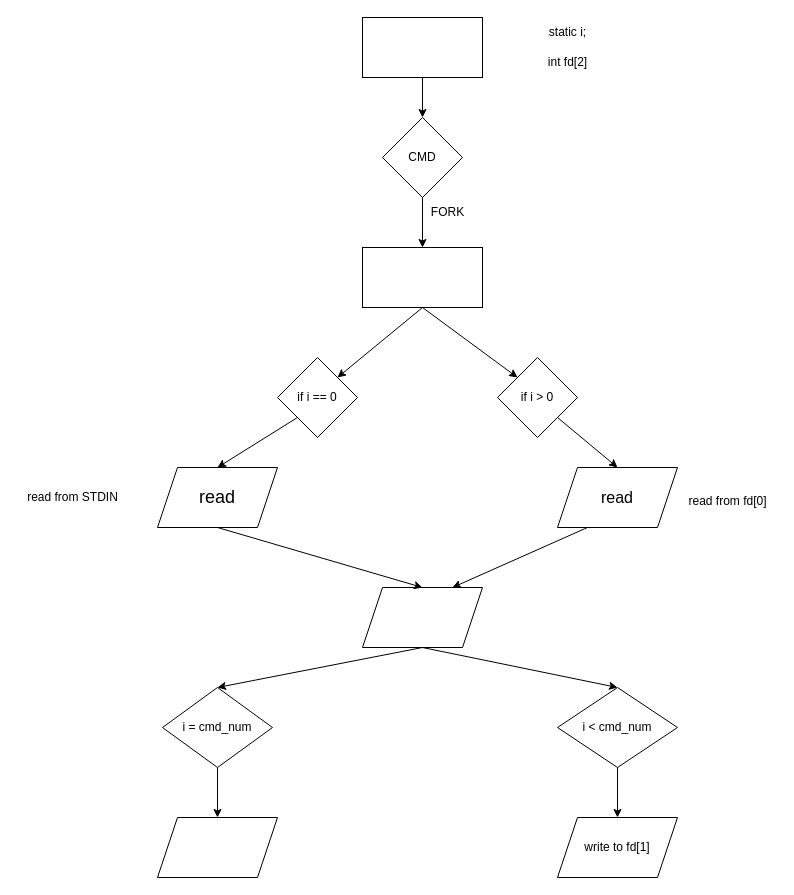
Image size: 794x895. Some labels were removed from this diagram. The centre of each missing label's shape, as x and y in pixels:
"CHILD" goes at [422,277].
"execve" goes at [422,617].
"MAIN" goes at [422,47].
"write to STDOUT" goes at [217,847].
